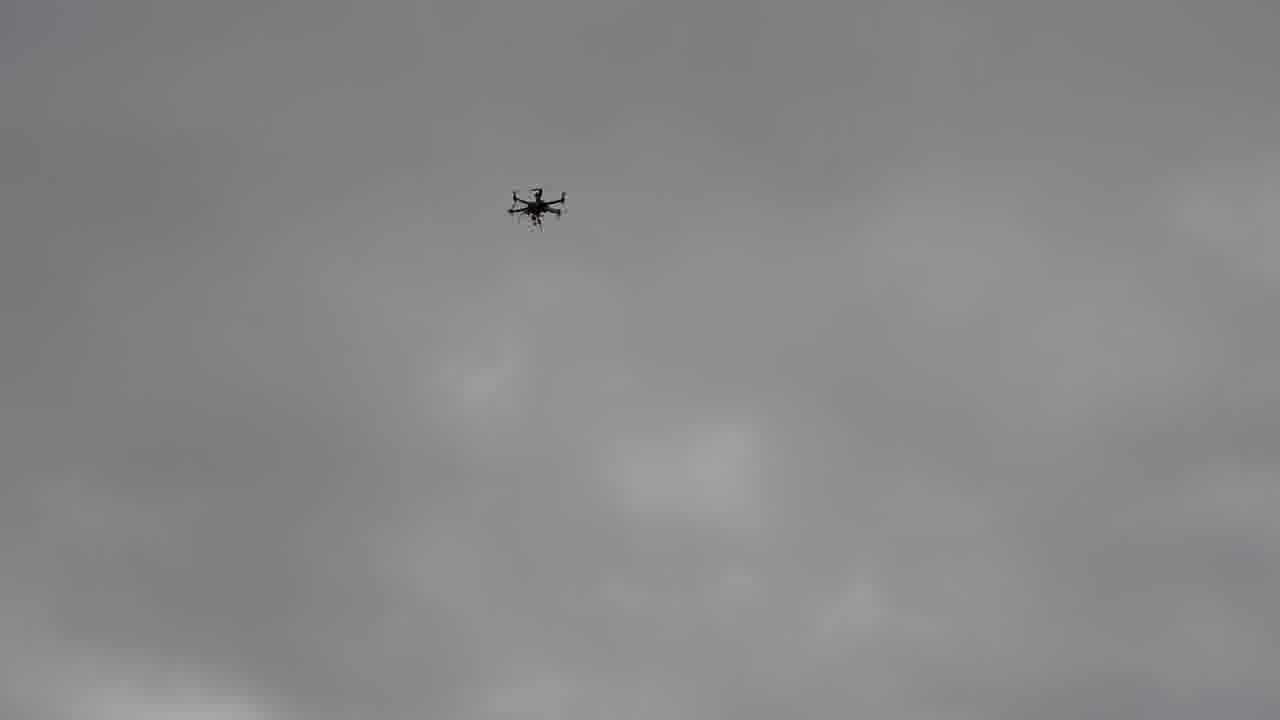drone: (498, 180, 577, 235)
